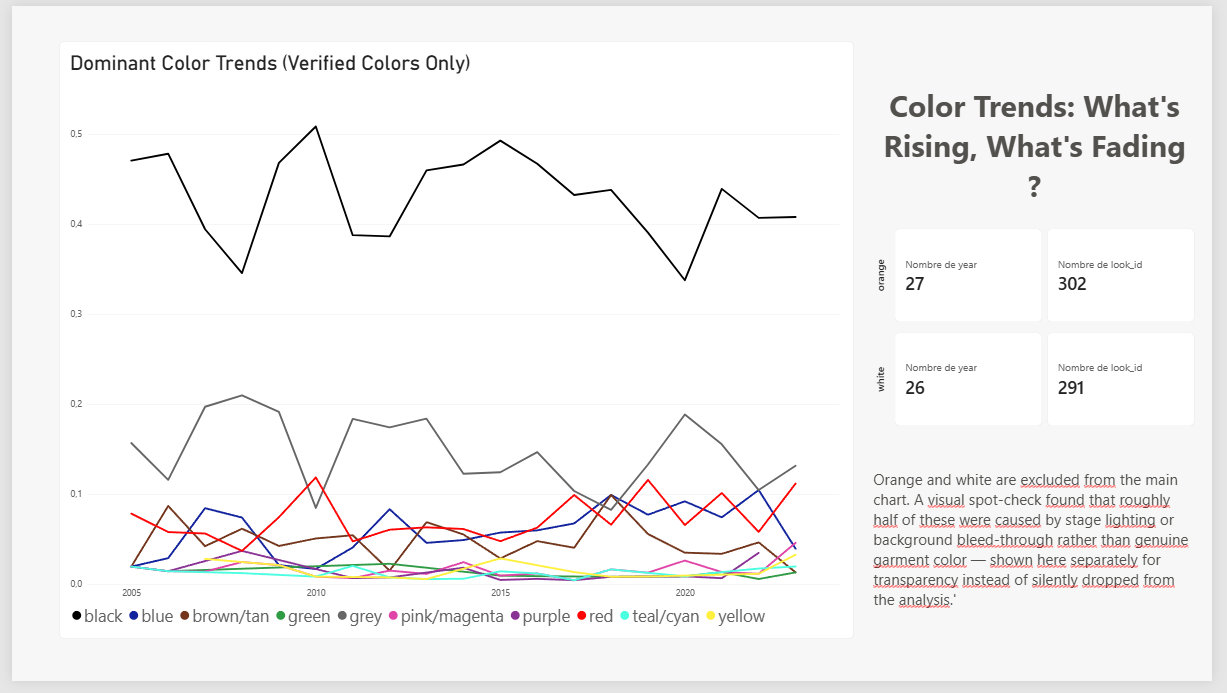

What the dashboard file says about the page in this screenshot:
{"tool":"powerbi","page":{"name":"Color Trends","canvas":[1920,1080],"ordinal":1},"visuals":[{"type":"lineChart","title":"Dominant Color Trends (Verified Colors Only)","fields":{"Category":["color_family_share_by_year.year"],"Series":["color_family_share_by_year.color_family"],"Y":["Sum(color_family_share_by_year.share)"]},"box":[76.7,56.7,1270,956.7],"z":0},{"type":"cardVisual","fields":{"Data":["Count(fact_colors_rank1.year)","Count(fact_colors_rank1.look_id)"],"Rows":["fact_colors_rank1.color_family"]},"box":[1378,356,514,316],"z":1000},{"type":"textbox","box":[1378,126,516,458],"z":2000},{"type":"textbox","box":[1378,740,514,272],"z":3000}]}

Visuals, with their boxes in screenshot pixels (x1, y1, x2, y2), scaled from the page's 1920x1080 canvas onto the 1227x693 screenshot:
"Dominant Color Trends (Verified Colors Only)" lineChart: (49, 36, 861, 650)
cardVisual - Count(fact_colors_rank1.year) x Count(fact_colors_rank1.look_id): (881, 228, 1209, 431)
textbox: (881, 81, 1210, 375)
textbox: (881, 475, 1209, 649)
